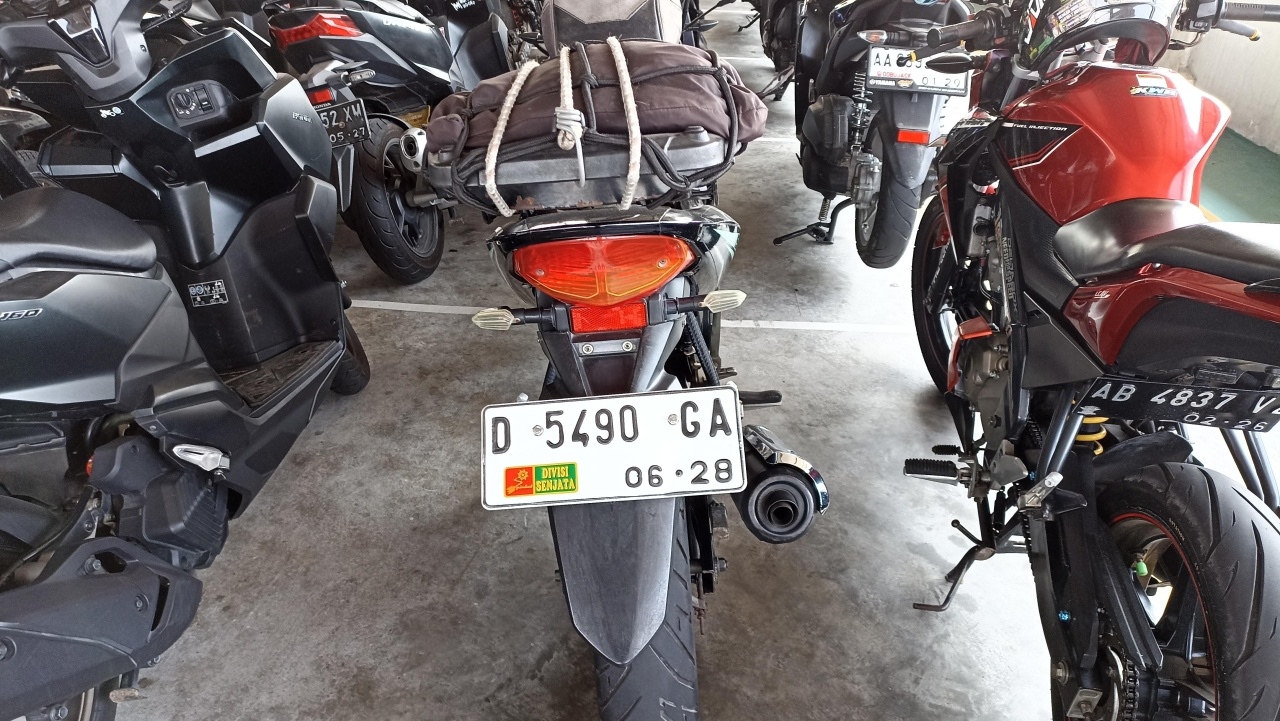plate: (482, 386, 746, 512), (1072, 376, 1280, 433)
